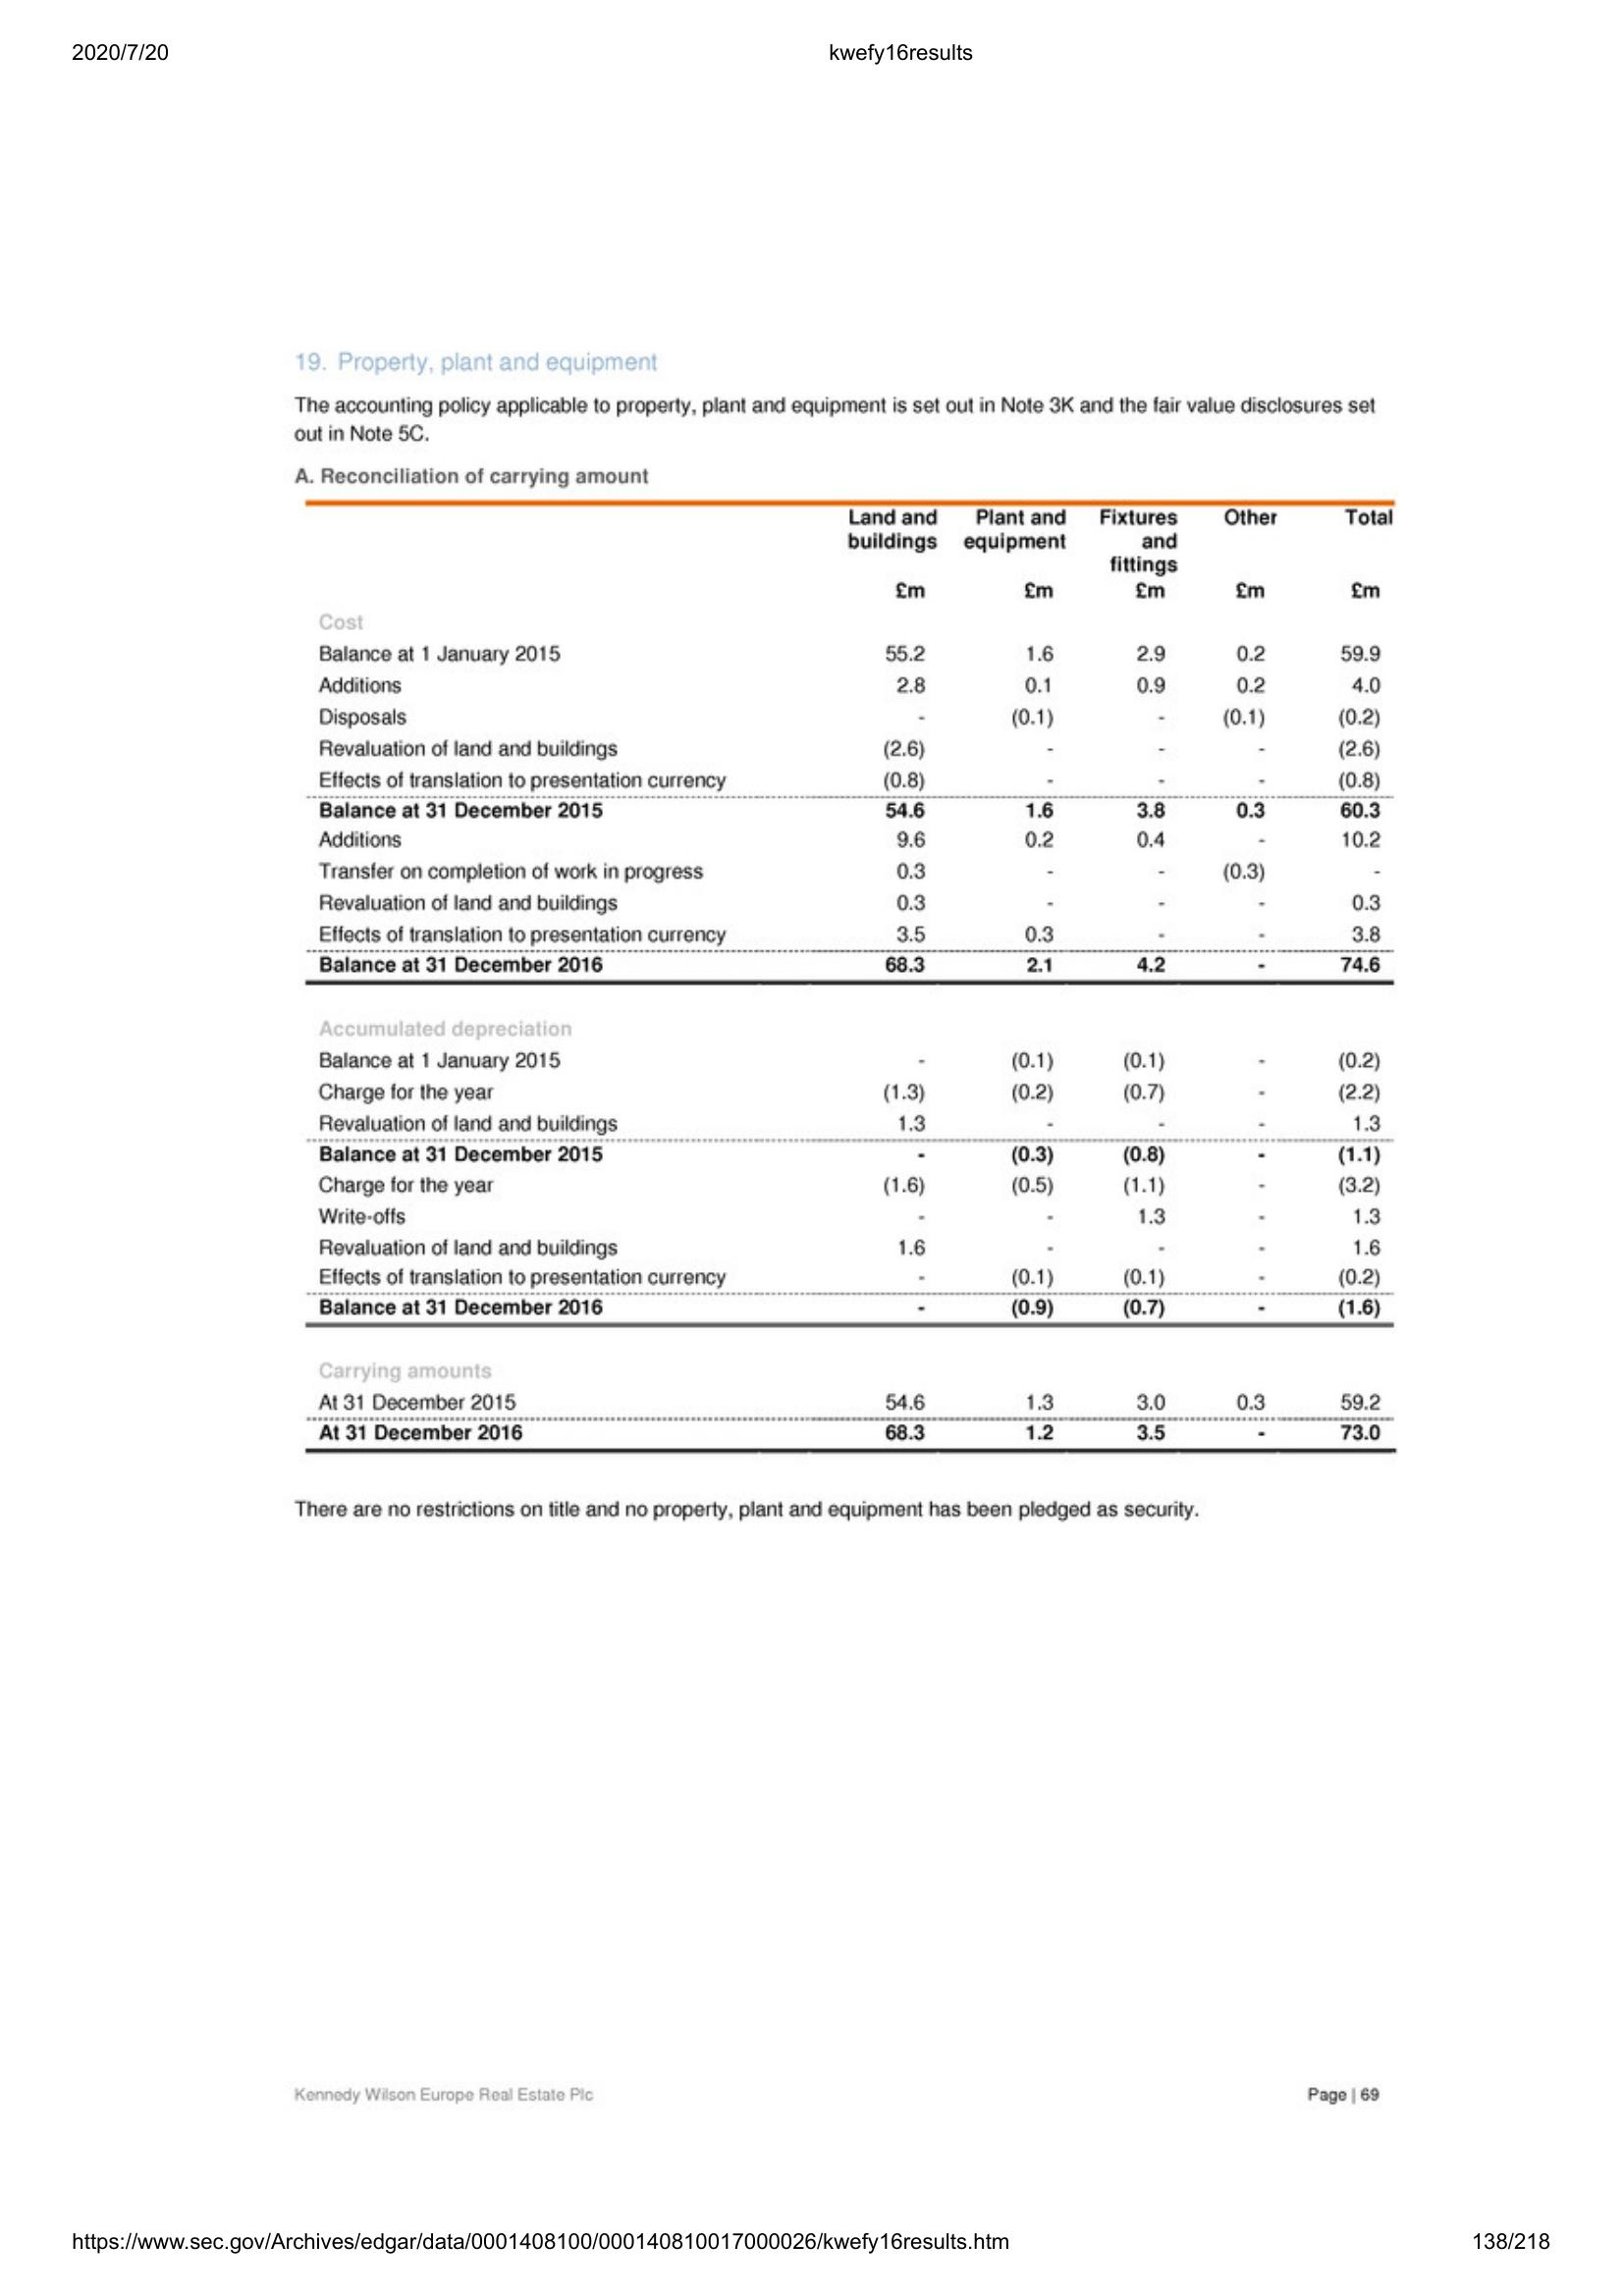table: (297, 495, 1403, 994), (299, 1009, 1416, 1462)
